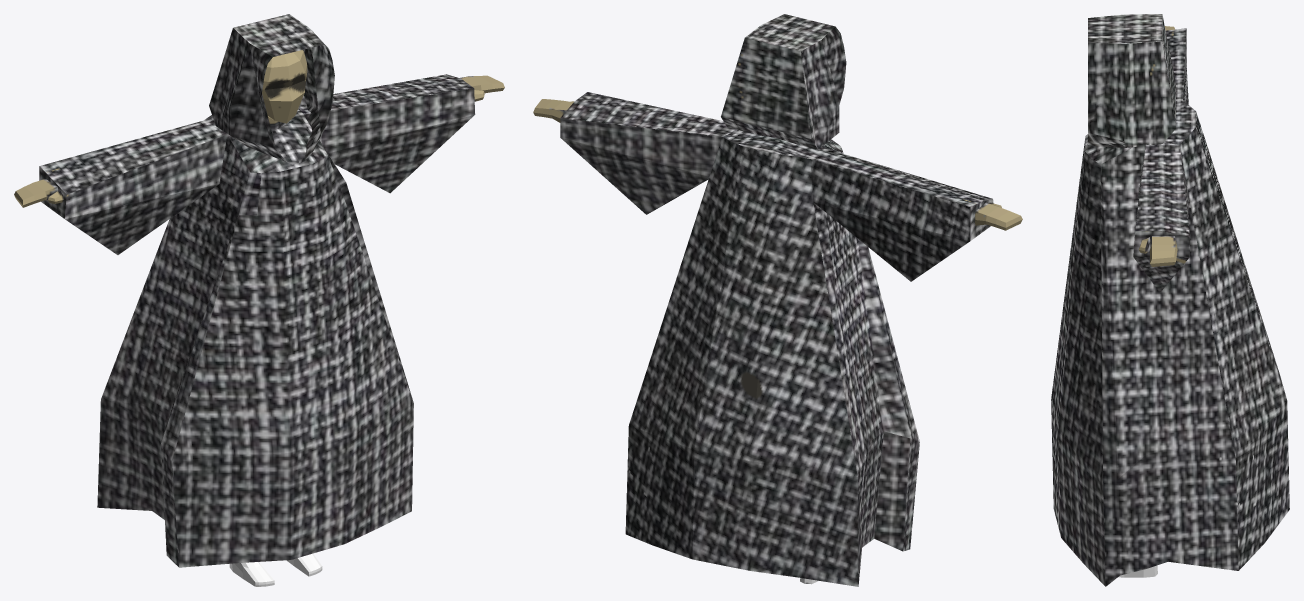
Rendered from almaCap.obj.
The picture shows the model from 3 angles, left to right: view 1: azimuth 30°, elevation 25°; view 2: azimuth 150°, elevation 25°; view 3: azimuth 270°, elevation 25°; orthographic projection.
Visible parts, largest first — view 1: AlmaCap; view 2: AlmaCap; view 3: AlmaCap.
Boxes of the visible parts, x1,y1,x2,y2 form: AlmaCap: (14,14,504,586); AlmaCap: (533,14,1022,586); AlmaCap: (1051,14,1289,586).
Size of the model in its own units: 0.6241 by 0.6621 by 0.2677.
Materials: 1 (1 with a texture image).
